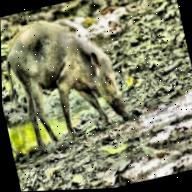boar: (0, 0, 140, 152)
